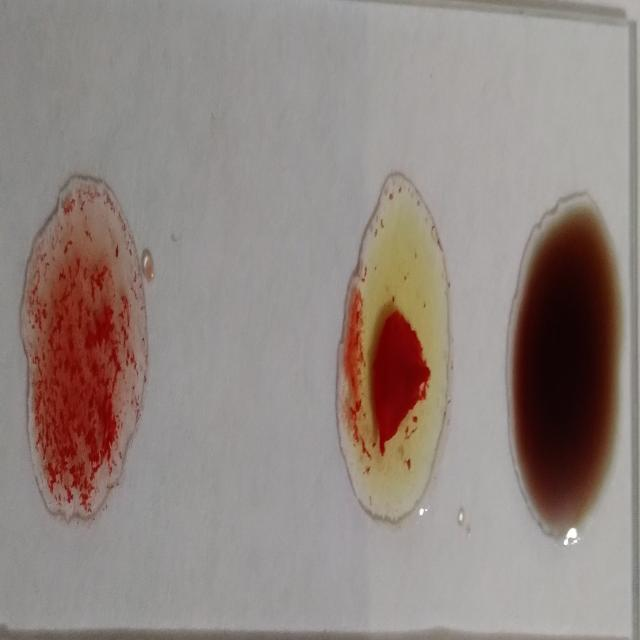B: (338, 171, 452, 518)
D: (23, 178, 143, 530)
